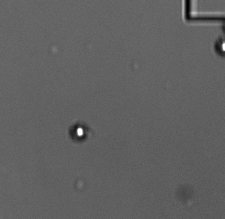Living Cell: (68, 122, 89, 142)
